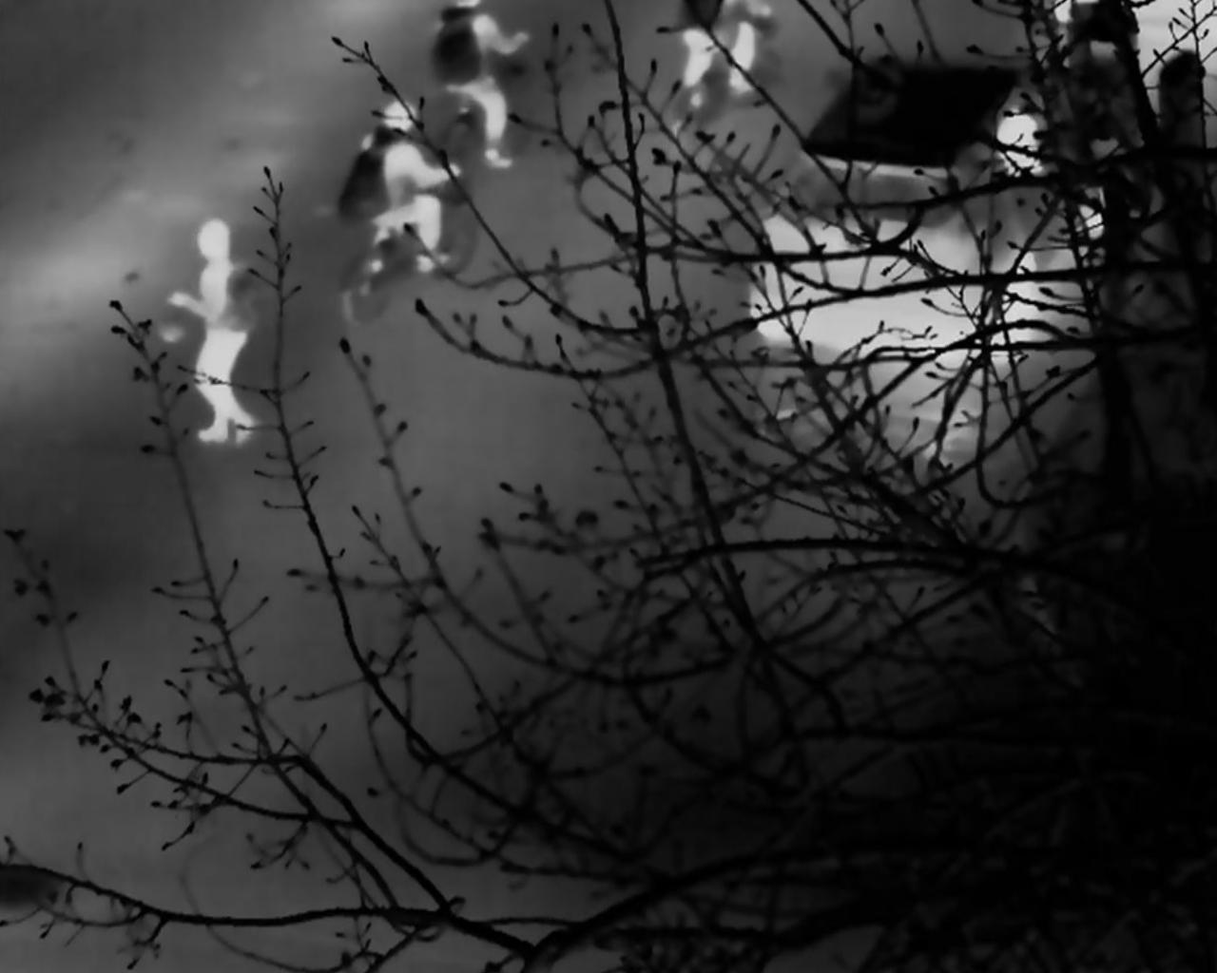person: (174, 226, 274, 456), (364, 94, 442, 289)
